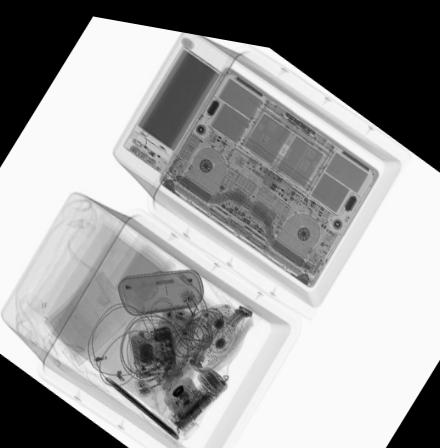Powerbank: (121, 37, 223, 171)
